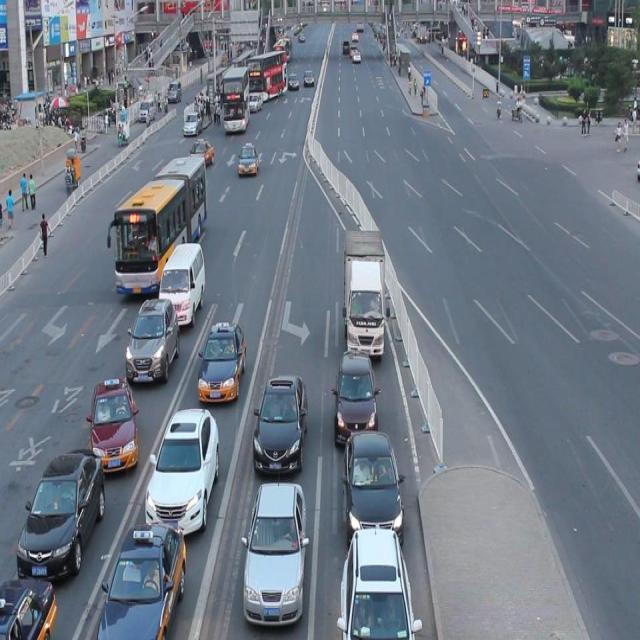bus: (343, 228, 386, 356)
car: (16, 445, 105, 579), (95, 516, 187, 640), (143, 403, 220, 536), (242, 475, 308, 622), (338, 519, 415, 640), (342, 425, 403, 539), (252, 369, 308, 474), (89, 374, 139, 472), (124, 295, 180, 382), (334, 346, 379, 448), (197, 319, 246, 402), (1, 572, 58, 640), (237, 142, 259, 176)
truck: (157, 238, 206, 326)
van: (115, 155, 207, 291)
